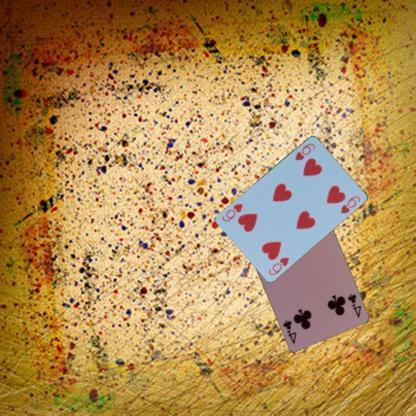4c: (344, 291, 362, 318)
6h: (266, 254, 290, 277), (292, 140, 316, 162)
